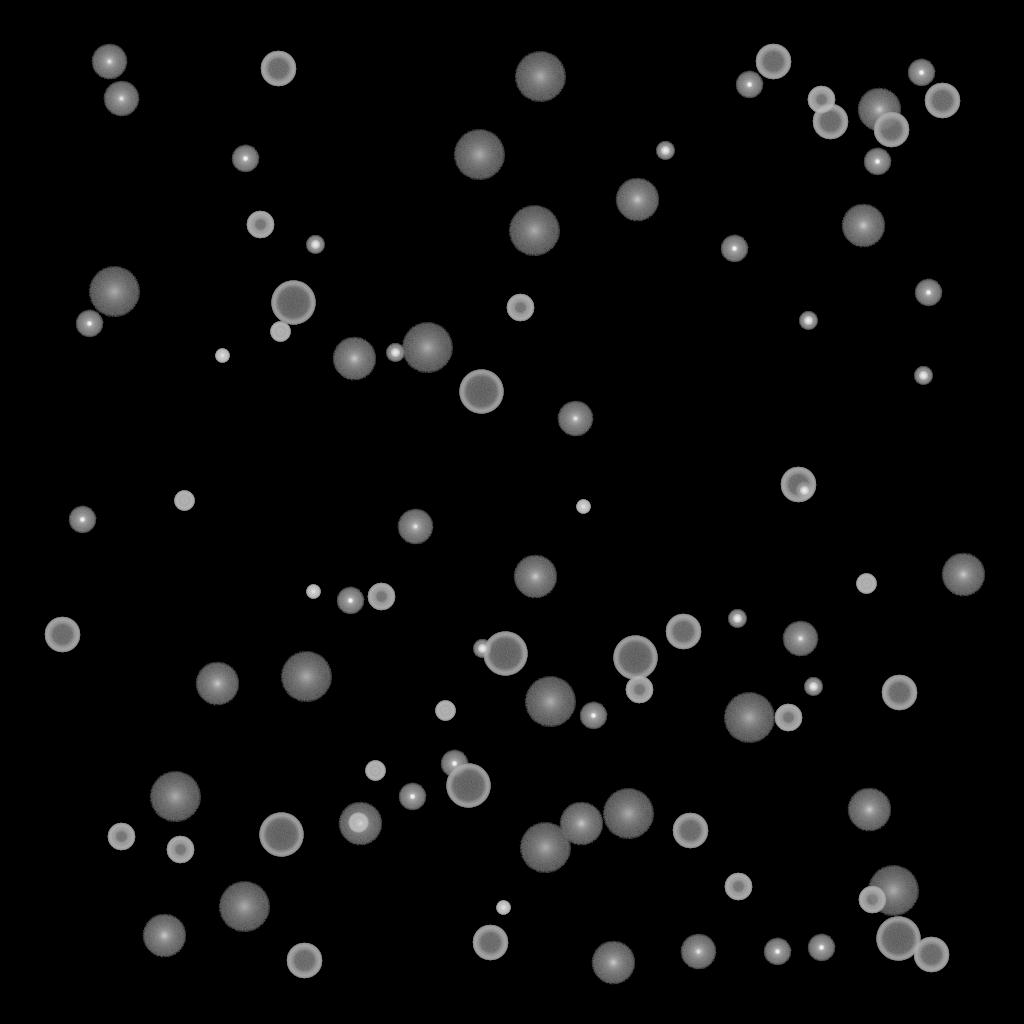depth:-10: (907, 59, 935, 87), (807, 934, 835, 962), (68, 506, 96, 534), (75, 310, 103, 338), (735, 71, 763, 99), (579, 702, 607, 730), (914, 279, 942, 307), (720, 235, 748, 263), (336, 587, 364, 615), (440, 750, 468, 778), (398, 783, 426, 811), (231, 145, 259, 173), (863, 148, 891, 176), (763, 938, 791, 966)
depth:-20: (728, 610, 746, 628), (656, 142, 674, 160), (306, 236, 324, 254), (473, 640, 491, 658), (795, 482, 813, 500), (799, 312, 817, 330), (386, 344, 404, 362), (804, 678, 822, 696), (914, 367, 932, 385)
depth:-30: (306, 585, 320, 599), (576, 500, 590, 514), (496, 901, 510, 915), (215, 349, 229, 363)
depth:-40: (365, 761, 385, 781), (435, 701, 455, 721), (270, 322, 290, 342), (174, 491, 194, 511), (348, 813, 368, 833), (856, 574, 876, 594)
depth:-50: (107, 823, 135, 851), (774, 704, 802, 732), (506, 294, 534, 322), (246, 211, 274, 239), (858, 886, 886, 914), (367, 583, 395, 611), (724, 873, 752, 901), (166, 836, 194, 864), (625, 676, 653, 704), (807, 86, 835, 114)
depth:-60: (913, 937, 949, 973), (665, 614, 701, 650), (881, 675, 917, 711), (873, 112, 909, 148), (286, 943, 322, 979), (44, 617, 80, 653), (672, 813, 708, 849), (780, 467, 816, 503), (924, 83, 960, 119), (260, 51, 296, 87), (755, 44, 791, 80), (472, 925, 508, 961), (812, 104, 848, 140)
depth:-70: (259, 813, 303, 857), (876, 917, 920, 961), (459, 370, 503, 414), (483, 632, 527, 676), (446, 764, 490, 808), (271, 281, 315, 325), (613, 636, 657, 680)
depth:0: (103, 81, 139, 117), (91, 44, 127, 80), (782, 621, 818, 657), (557, 401, 593, 437), (397, 509, 433, 545), (680, 934, 716, 970)
depth:10: (195, 662, 239, 706), (513, 555, 557, 599), (142, 914, 186, 958), (841, 204, 885, 248), (847, 788, 891, 832), (332, 337, 376, 381), (591, 941, 635, 985), (941, 553, 985, 597), (559, 802, 603, 846), (615, 178, 659, 222), (338, 802, 382, 846), (857, 88, 901, 132)
depth:20: (401, 323, 453, 373), (519, 823, 571, 873), (723, 693, 775, 743), (514, 52, 566, 102), (867, 866, 919, 916), (149, 772, 201, 822), (280, 652, 332, 702), (508, 206, 560, 256), (524, 677, 576, 727), (88, 267, 140, 317), (453, 130, 505, 180), (602, 789, 654, 839), (218, 882, 270, 932)
